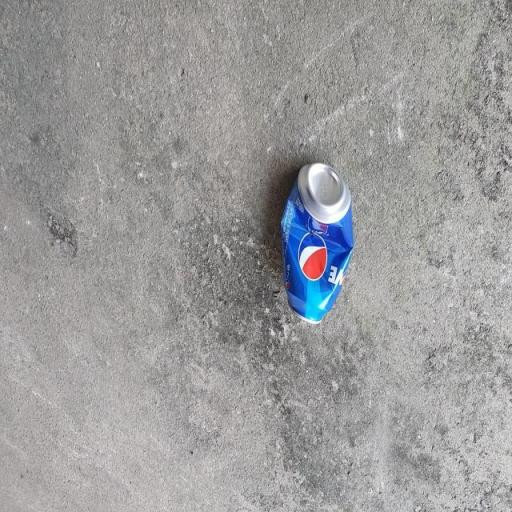metal: (264, 141, 368, 337)
